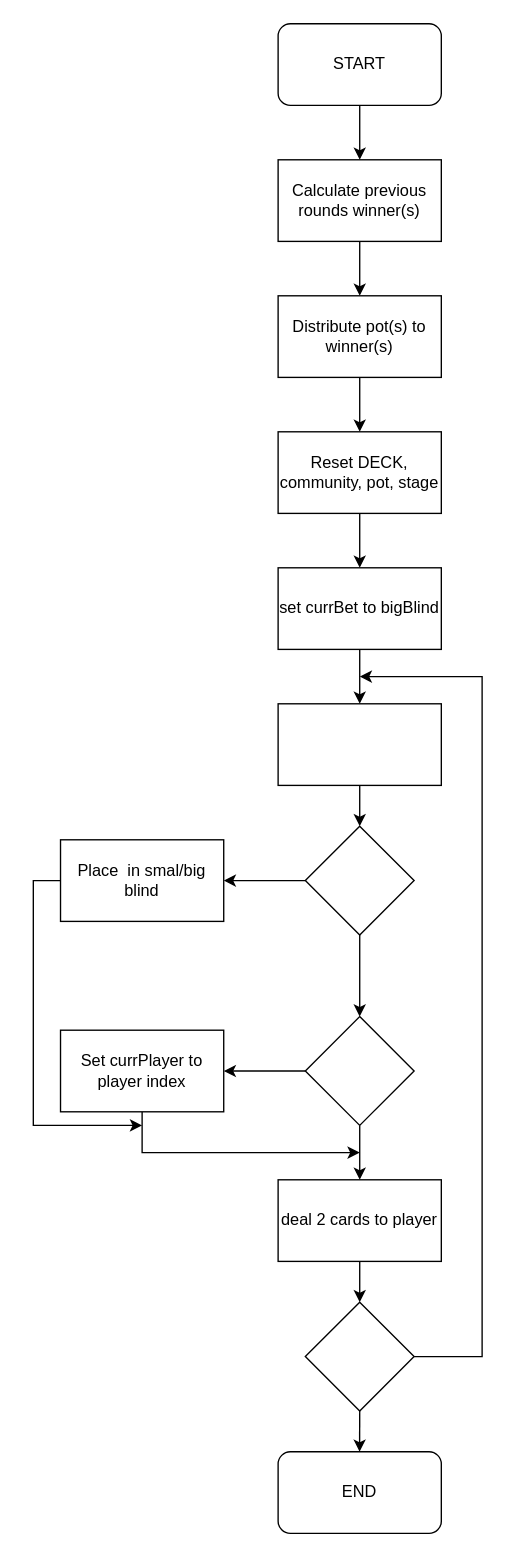
The diagram is 517 pixels wide and 1557 high, and some of its shapes have lost their labels. Here are the shapes that lost their labels. From the top down, the box of each, then its label:
(277, 702, 441, 785): Increment player position
(304, 825, 414, 935): position == small blind or big blind?
(304, 1015, 414, 1125): positon == Under The Gun?
(304, 1301, 414, 1411): Is there another player?
